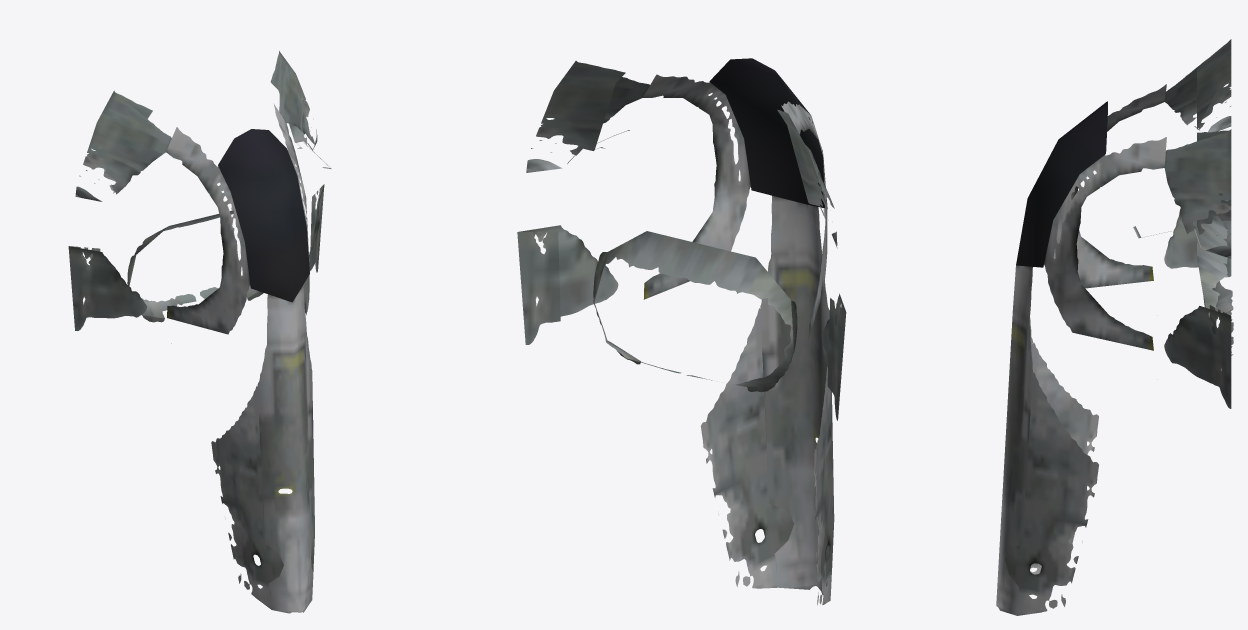
The model's file is kse_firespray_body_l2.fbx.
3 views of the same model, side by side, from view 1: azimuth 30°, elevation 25°; view 2: azimuth 150°, elevation 25°; view 3: azimuth 270°, elevation 25° (orthographic). The views are drawn at different scales.
Parts seen in each view (by area): view 1: mesh_node; view 2: mesh_node; view 3: mesh_node.
Part boxes in pixels (left/top/right/bottom): mesh_node: left=68, top=51, right=331, bottom=613; mesh_node: left=517, top=58, right=846, bottom=605; mesh_node: left=996, top=39, right=1233, bottom=615.
Bounding box in the file's own units: 19.4 × 24.76 × 9.11.
Materials: 2 (2 with a texture image).
